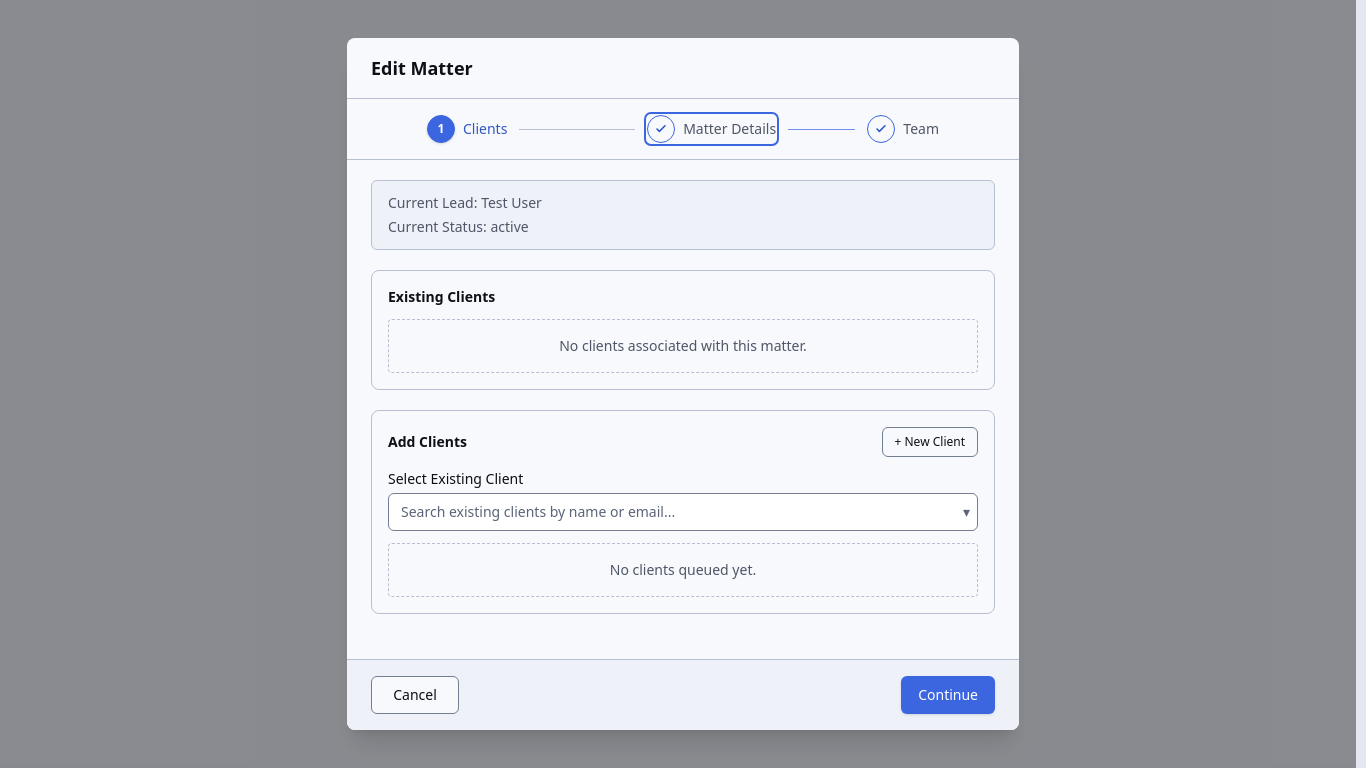
where a failed save is reported › shows the error in the footer, beside Save Changes
This screenshot has width=1366, height=768.
Click the button with aria-label "Team,": [903, 129] box [867, 115, 939, 143]
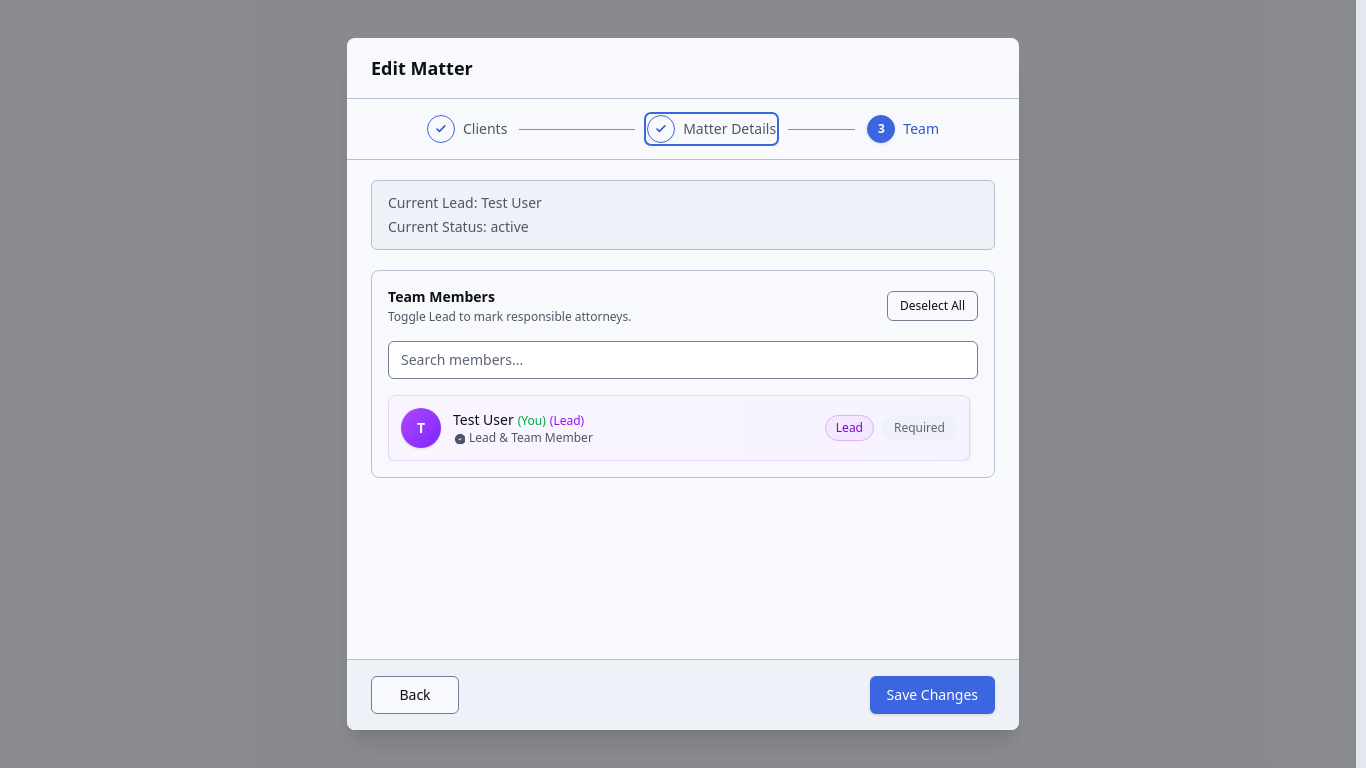
Click the button "Save Changes": [932, 695] box [870, 676, 995, 714]
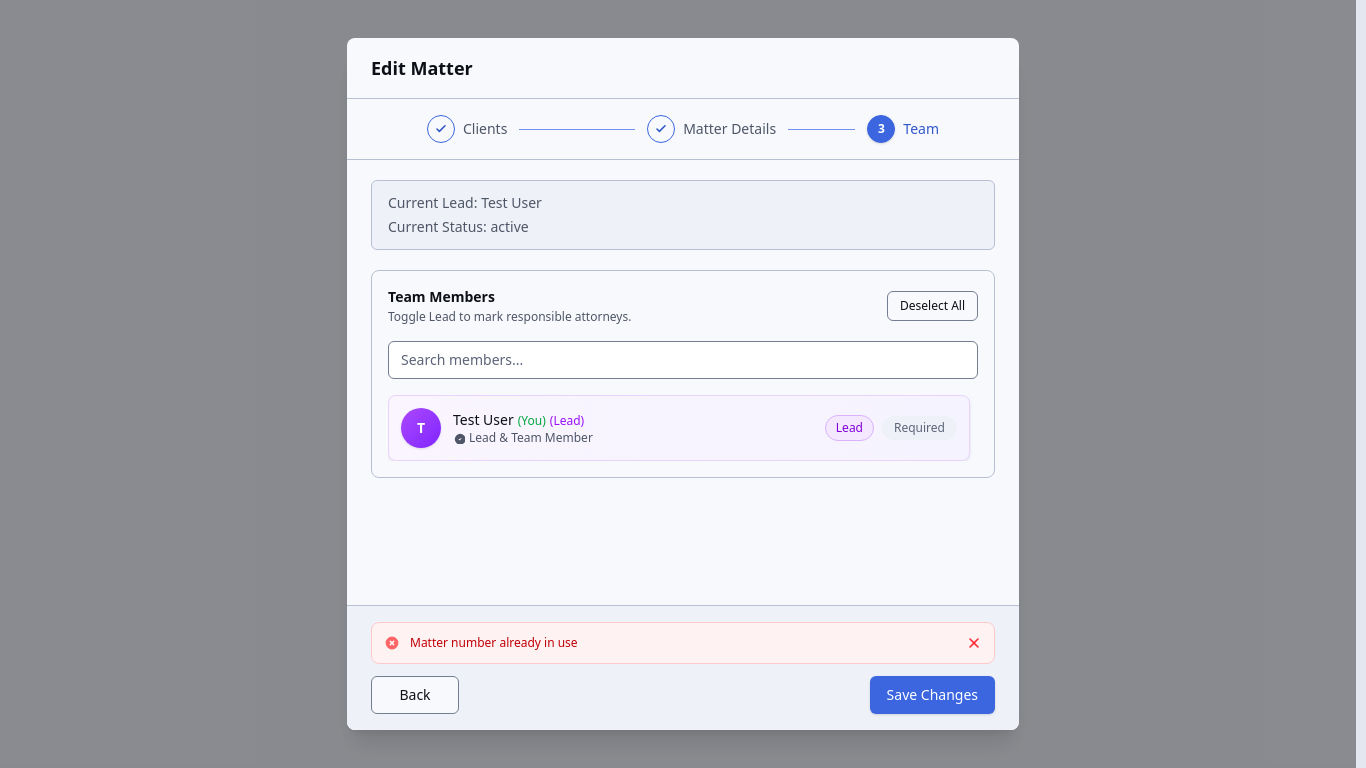
Expected: the message reads "Matter number already in use", [410, 634, 578, 651]
